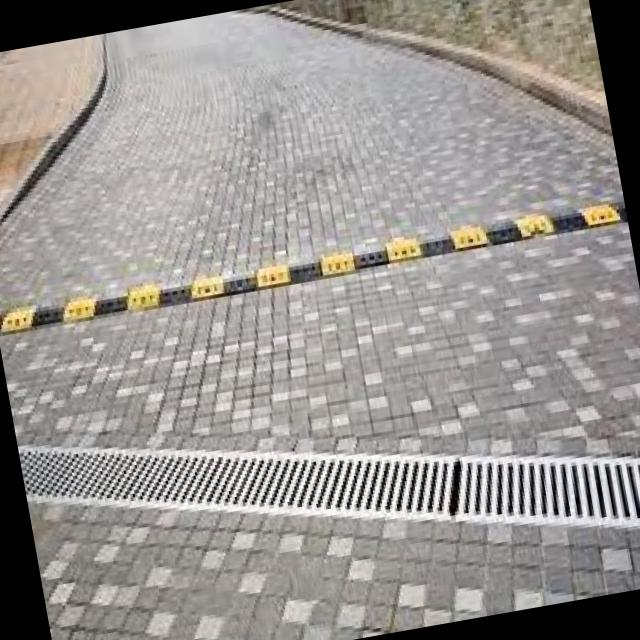bump: (9, 190, 624, 342)
